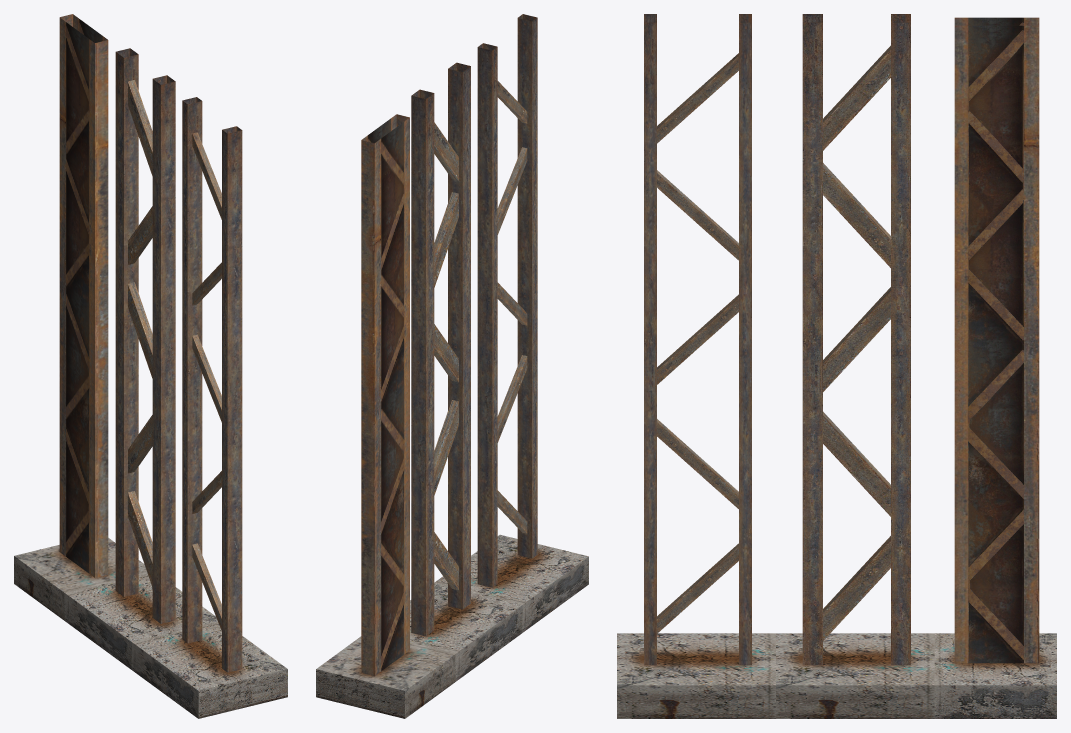
Rendered from Support_set_v1_supports_v.FBX.
3 renders of one model, left to right at view 1: azimuth 30°, elevation 25°; view 2: azimuth 150°, elevation 25°; view 3: azimuth 270°, elevation 25°, orthographic. The views are drawn at different scales.
Visible parts, largest first — view 1: Support_set_v1_support2_v, Support_set_v1_support3_v, Support_set_v1_support1_v; view 2: Support_set_v1_support1_v, Support_set_v1_support2_v, Support_set_v1_support3_v; view 3: Support_set_v1_support1_v, Support_set_v1_support2_v, Support_set_v1_support3_v.
Part boxes in pixels (left/top/right/bottom): Support_set_v1_support2_v: left=65, top=48, right=217, bottom=669; Support_set_v1_support3_v: left=132, top=97, right=287, bottom=718; Support_set_v1_support1_v: left=14, top=14, right=147, bottom=620; Support_set_v1_support1_v: left=316, top=114, right=456, bottom=718; Support_set_v1_support2_v: left=410, top=62, right=522, bottom=680; Support_set_v1_support3_v: left=434, top=14, right=588, bottom=632; Support_set_v1_support1_v: left=934, top=17, right=1056, bottom=718; Support_set_v1_support2_v: left=776, top=14, right=934, bottom=718; Support_set_v1_support3_v: left=617, top=14, right=775, bottom=718.
Size of the model in its own units: 0.8597 by 5.21 by 3.07.
